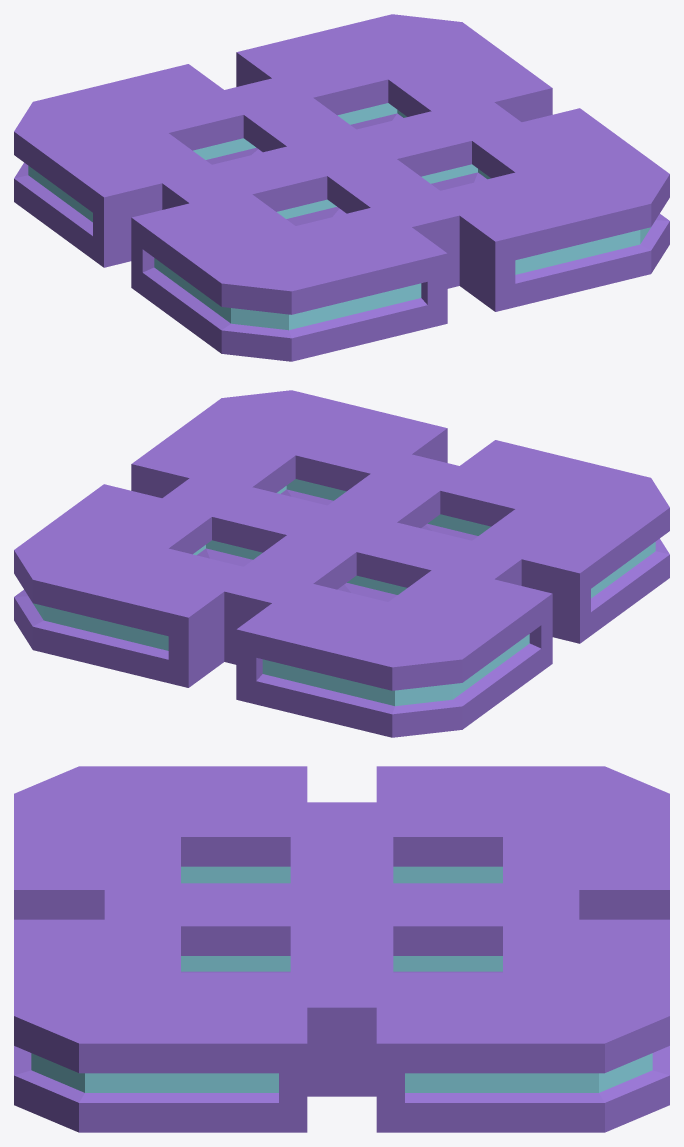
File: SymmetryMap.fbx
3 renders of one model, top to bottom at view 1: azimuth 30°, elevation 25°; view 2: azimuth 150°, elevation 25°; view 3: azimuth 270°, elevation 25°, orthographic. The views are drawn at different scales.
Visible parts, largest first — view 1: Cube; view 2: Cube; view 3: Cube.
Part boxes in pixels (x1,y1,x2,y2): Cube: (14,14,669,361); Cube: (14,390,669,737); Cube: (14,766,669,1132).
Bounding box in the file's own units: 4000 × 600 × 4000.
